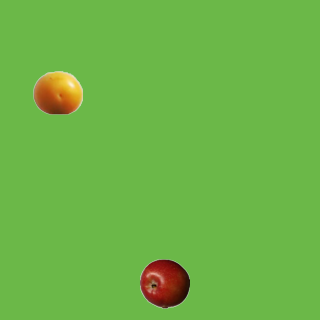Apple Braeburn: (139, 258, 189, 308)
Cherry Wax Yellow: (32, 67, 82, 117)
